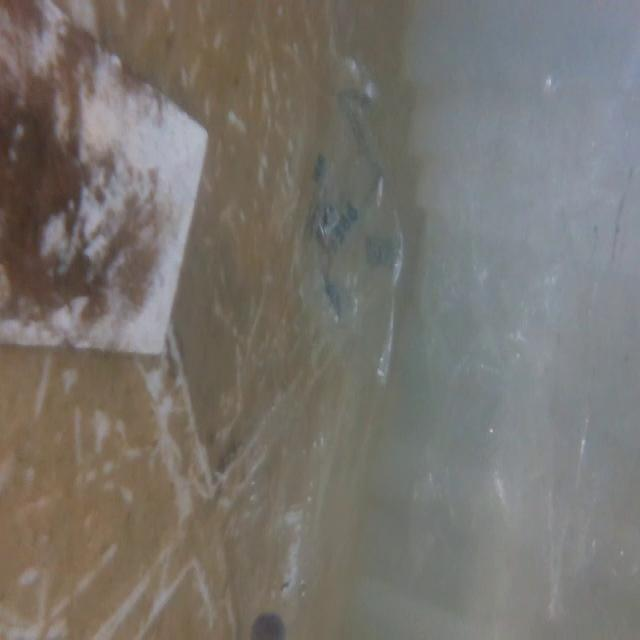plastic bags: (297, 61, 403, 388)
